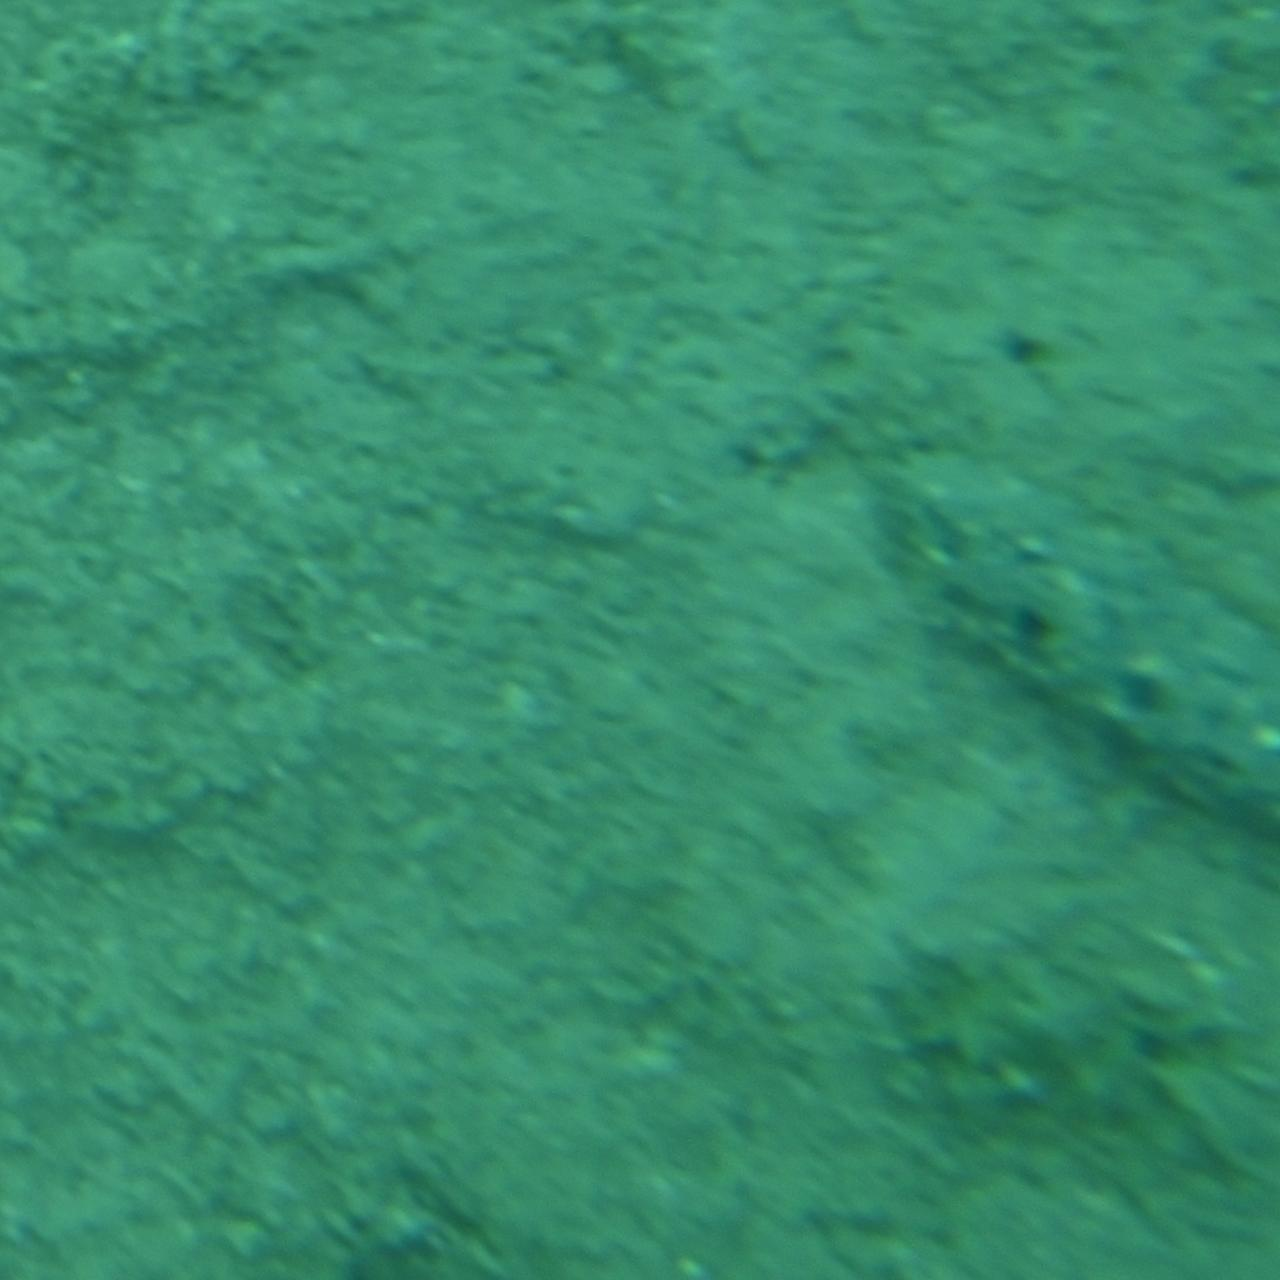Holothuria tubulosa: (845, 451, 1279, 829)
